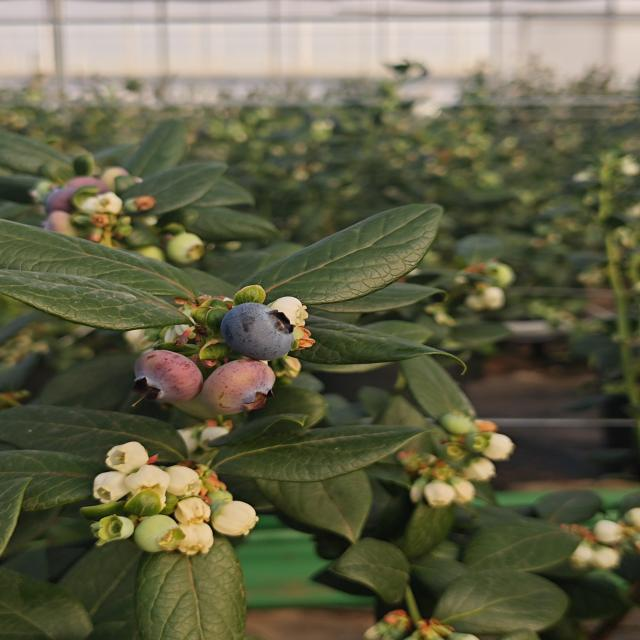ripe: (217, 300, 299, 362)
